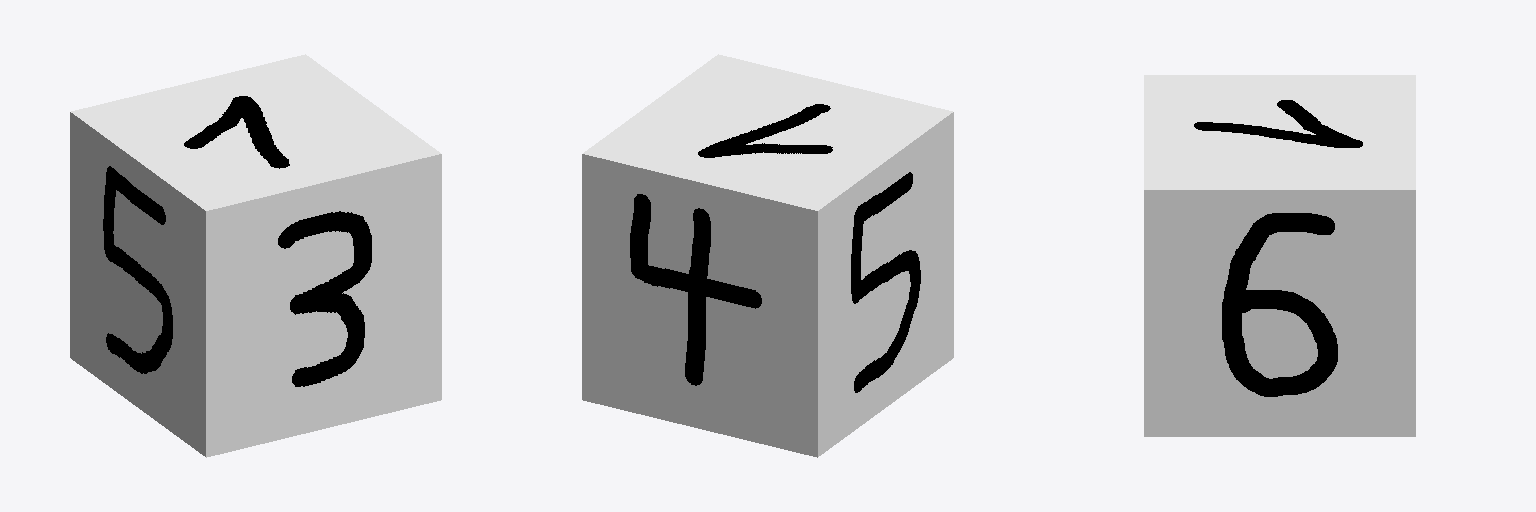
3 views of the same model, side by side, from view 1: azimuth 30°, elevation 25°; view 2: azimuth 150°, elevation 25°; view 3: azimuth 270°, elevation 25° (orthographic).
Parts seen in each view (by area): view 1: Cube; view 2: Cube; view 3: Cube.
Part boxes in pixels (left/top/right/bottom): Cube: left=70, top=54, right=441, bottom=457; Cube: left=582, top=54, right=953, bottom=457; Cube: left=1144, top=75, right=1415, bottom=436.
Size of the model in its own units: 2 by 2 by 2.
6 materials, 6 textured.